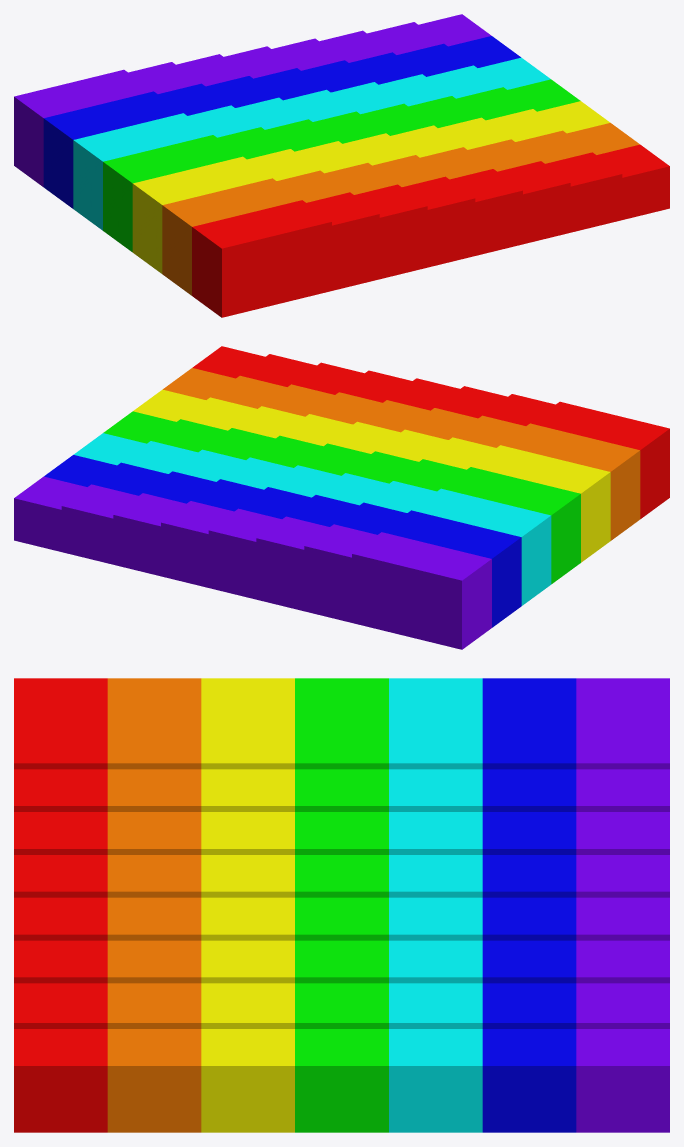
The model's file is Eruption-34.obj.
The picture shows the model from 3 angles, top to bottom: view 1: azimuth 30°, elevation 25°; view 2: azimuth 150°, elevation 25°; view 3: azimuth 270°, elevation 25°; orthographic projection. The views are drawn at different scales.
Size of the model in its own units: 12.2 by 1.8 by 9.8.
Materials: 1 (1 with a texture image).
